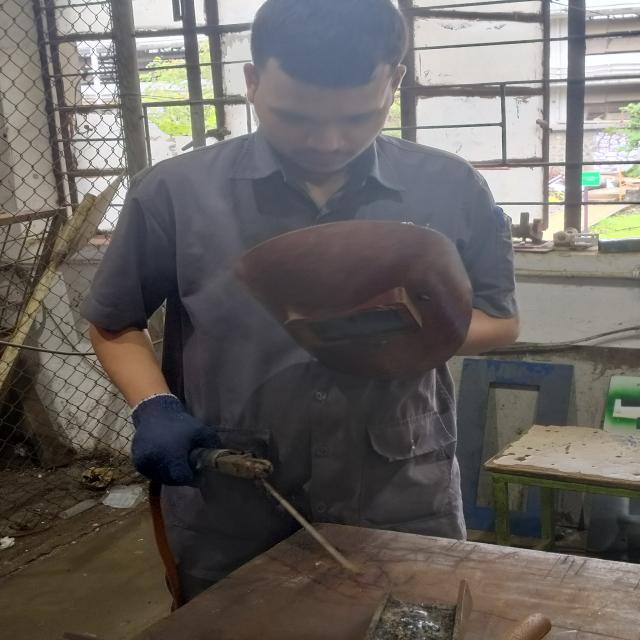Gloves-Detection: (120, 406, 242, 496)
